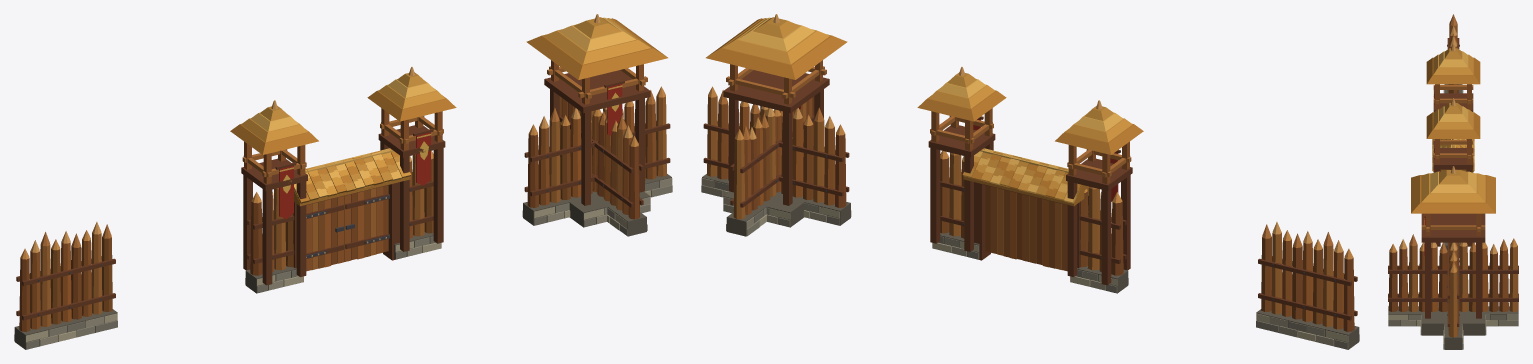
File: muralhas-nivel-2.glb
3 renders of one model, left to right at view 1: azimuth 30°, elevation 25°; view 2: azimuth 150°, elevation 25°; view 3: azimuth 270°, elevation 25°, orthographic. The views are drawn at different scales.
Visible parts, largest first — view 1: tower_torre_palha_0, tower_torre_piso, tower_torre_palha_1, gate_guarita_1_palha_0, gate_guarita_-1_palha_0, gate_guarita_-1_esteio_0, gate_guarita_1_esteio_2, tower_torre_palha_2, gate_guarita_-1_esteio_2, tower_torre_esteio_0, gate_guarita_1_esteio_0, gate_pilar_1 (+37 smaller); view 2: tower_torre_palha_0, tower_torre_piso, tower_torre_palha_1, gate_guarita_1_palha_0, gate_guarita_-1_palha_0, gate_guarita_-1_esteio_1, gate_guarita_1_esteio_3, gate_guarita_-1_piso, tower_torre_palha_2, gate_guarita_1_piso, gate_guarita_-1_esteio_3, tower_torre_esteio_1 (+38 smaller); view 3: tower_torre_palha_0, tower_torre_piso, tower_torre_palha_1, tower_torre_argamassa, gate_guarita_-1_palha_0, gate_guarita_1_palha_0, tower_torre_palha_2, gate_guarita_1_piso, tower_frente_estaca_13, tower_lado_estaca_3, tower_lado_estaca_8, tower_lado_estaca_12 (+38 smaller).
Part boxes in pixels (x1,y1,x2,y2): tower_torre_palha_0: [526, 18, 667, 79]; tower_torre_piso: [544, 70, 650, 113]; tower_torre_palha_1: [544, 18, 650, 64]; gate_guarita_1_palha_0: [367, 90, 456, 121]; gate_guarita_-1_palha_0: [230, 124, 318, 154]; gate_guarita_-1_esteio_0: [262, 189, 272, 285]; gate_guarita_1_esteio_2: [433, 148, 443, 243]; tower_torre_palha_2: [559, 17, 635, 51]; gate_guarita_-1_esteio_2: [296, 181, 306, 276]; tower_torre_esteio_0: [581, 111, 590, 205]; gate_guarita_1_esteio_0: [400, 156, 409, 251]; gate_pilar_1: [383, 182, 399, 260]; tower_torre_palha_0: [706, 18, 847, 79]; tower_torre_piso: [723, 70, 829, 113]; tower_torre_palha_1: [723, 18, 829, 64]; gate_guarita_1_palha_0: [917, 90, 1006, 121]; gate_guarita_-1_palha_0: [1055, 124, 1143, 154]; gate_guarita_-1_esteio_1: [1101, 189, 1111, 285]; gate_guarita_1_esteio_3: [930, 148, 940, 243]; gate_guarita_-1_piso: [1066, 158, 1132, 190]; tower_torre_palha_2: [738, 17, 814, 51]; gate_guarita_1_piso: [928, 125, 995, 157]; gate_guarita_-1_esteio_3: [1067, 181, 1077, 276]; tower_torre_esteio_1: [783, 111, 792, 205]; tower_torre_palha_0: [1411, 175, 1495, 213]; tower_torre_piso: [1421, 213, 1485, 242]; tower_torre_palha_1: [1421, 173, 1485, 202]; tower_torre_argamassa: [1421, 302, 1485, 335]; gate_guarita_-1_palha_0: [1426, 57, 1480, 84]; gate_guarita_1_palha_0: [1426, 112, 1480, 138]; tower_torre_palha_2: [1430, 171, 1476, 193]; gate_guarita_1_piso: [1433, 148, 1473, 169]; tower_frente_estaca_13: [1448, 271, 1458, 337]; tower_lado_estaca_3: [1408, 244, 1418, 311]; tower_lado_estaca_8: [1459, 245, 1468, 311]; tower_lado_estaca_12: [1499, 249, 1508, 311].
Size of the model in its own units: 28 by 7.93 by 6.
